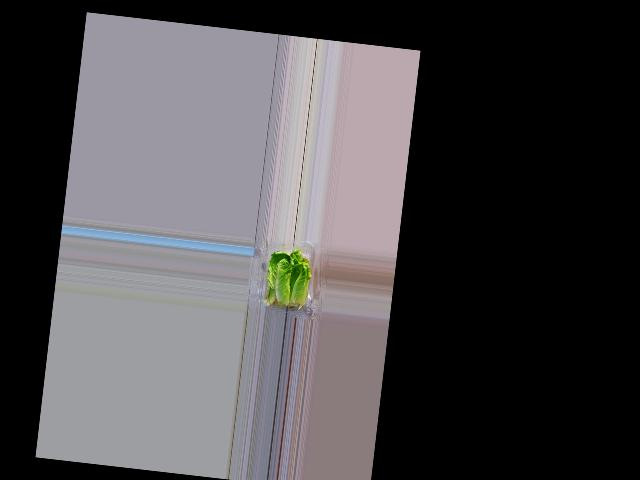lettuce: (264, 246, 313, 307)
